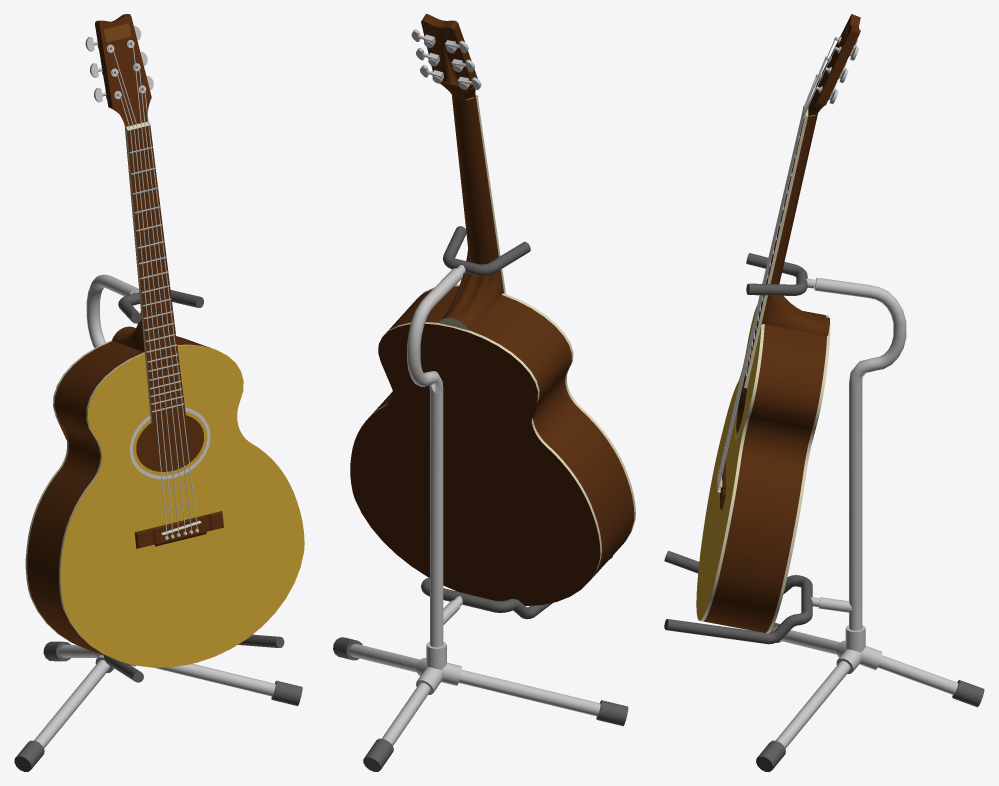
The model's file is guitar.obj.
3 views of the same model, side by side, from view 1: azimuth 30°, elevation 25°; view 2: azimuth 150°, elevation 25°; view 3: azimuth 270°, elevation 25° (orthographic). The views are drawn at different scales.
Visible parts, largest first — view 1: Mesh2_Model; view 2: Mesh2_Model; view 3: Mesh2_Model.
Part boxes in pixels (bbox=[...]): Mesh2_Model: bbox=[14, 14, 304, 771]; Mesh2_Model: bbox=[333, 14, 635, 771]; Mesh2_Model: bbox=[664, 14, 984, 771].
Bounding box in the file's own units: 0.8137 × 1.87 × 0.7943.
